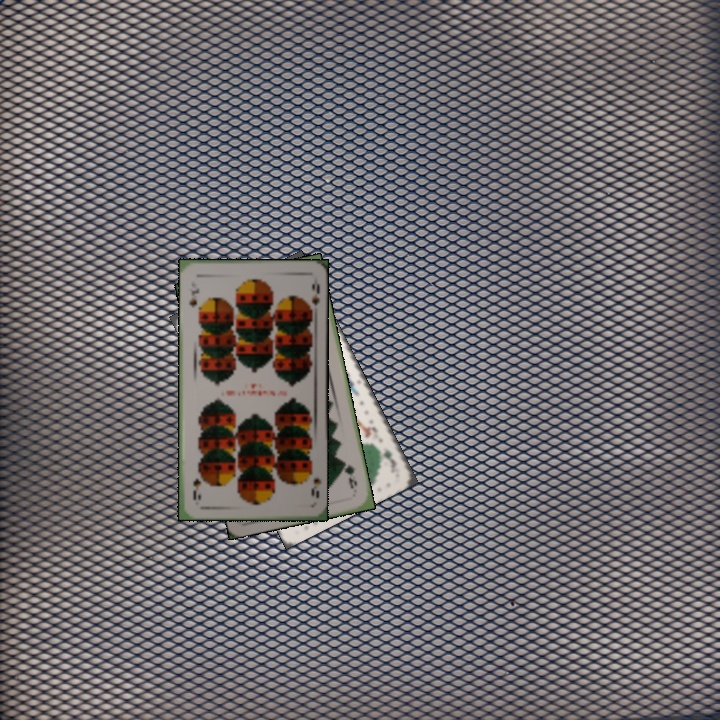G9: (340, 458, 360, 492)
GK: (373, 442, 397, 464)
S9: (303, 463, 322, 501), (185, 284, 201, 310)
